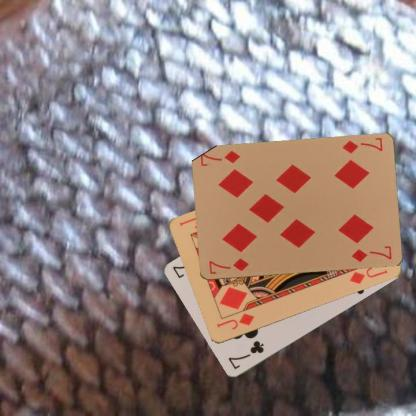7c: (225, 338, 266, 371)
7d: (206, 256, 250, 276), (339, 136, 384, 155)
Jd: (214, 310, 255, 332)
